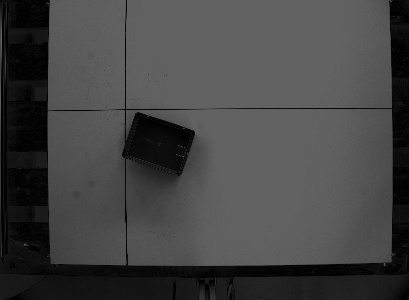klts: (119, 110, 197, 177)
